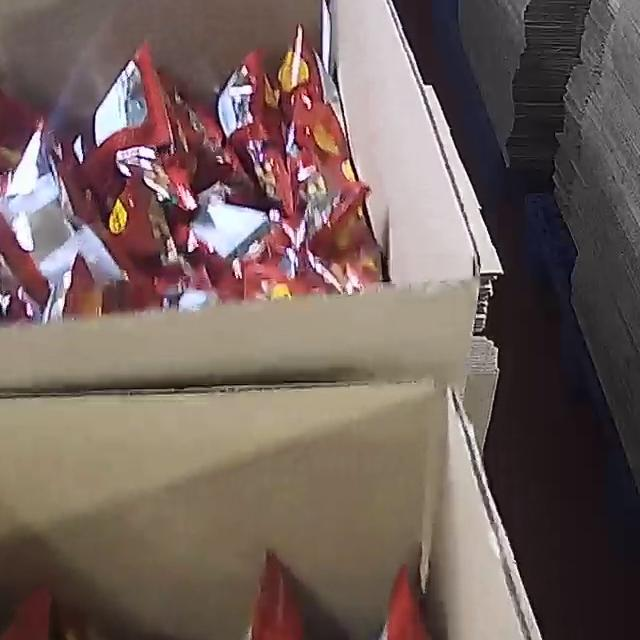masala: (0, 21, 384, 338), (0, 555, 457, 640)
